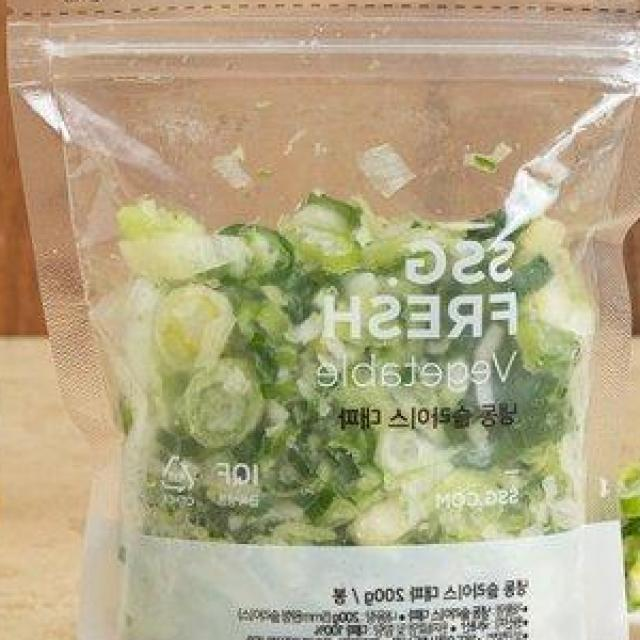greenonion: (113, 187, 578, 640)
